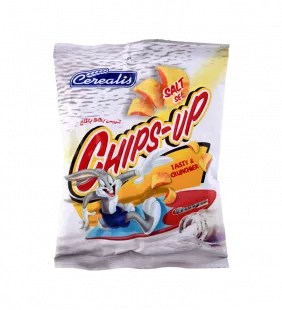CHIPS'UP: (44, 29, 237, 277)
